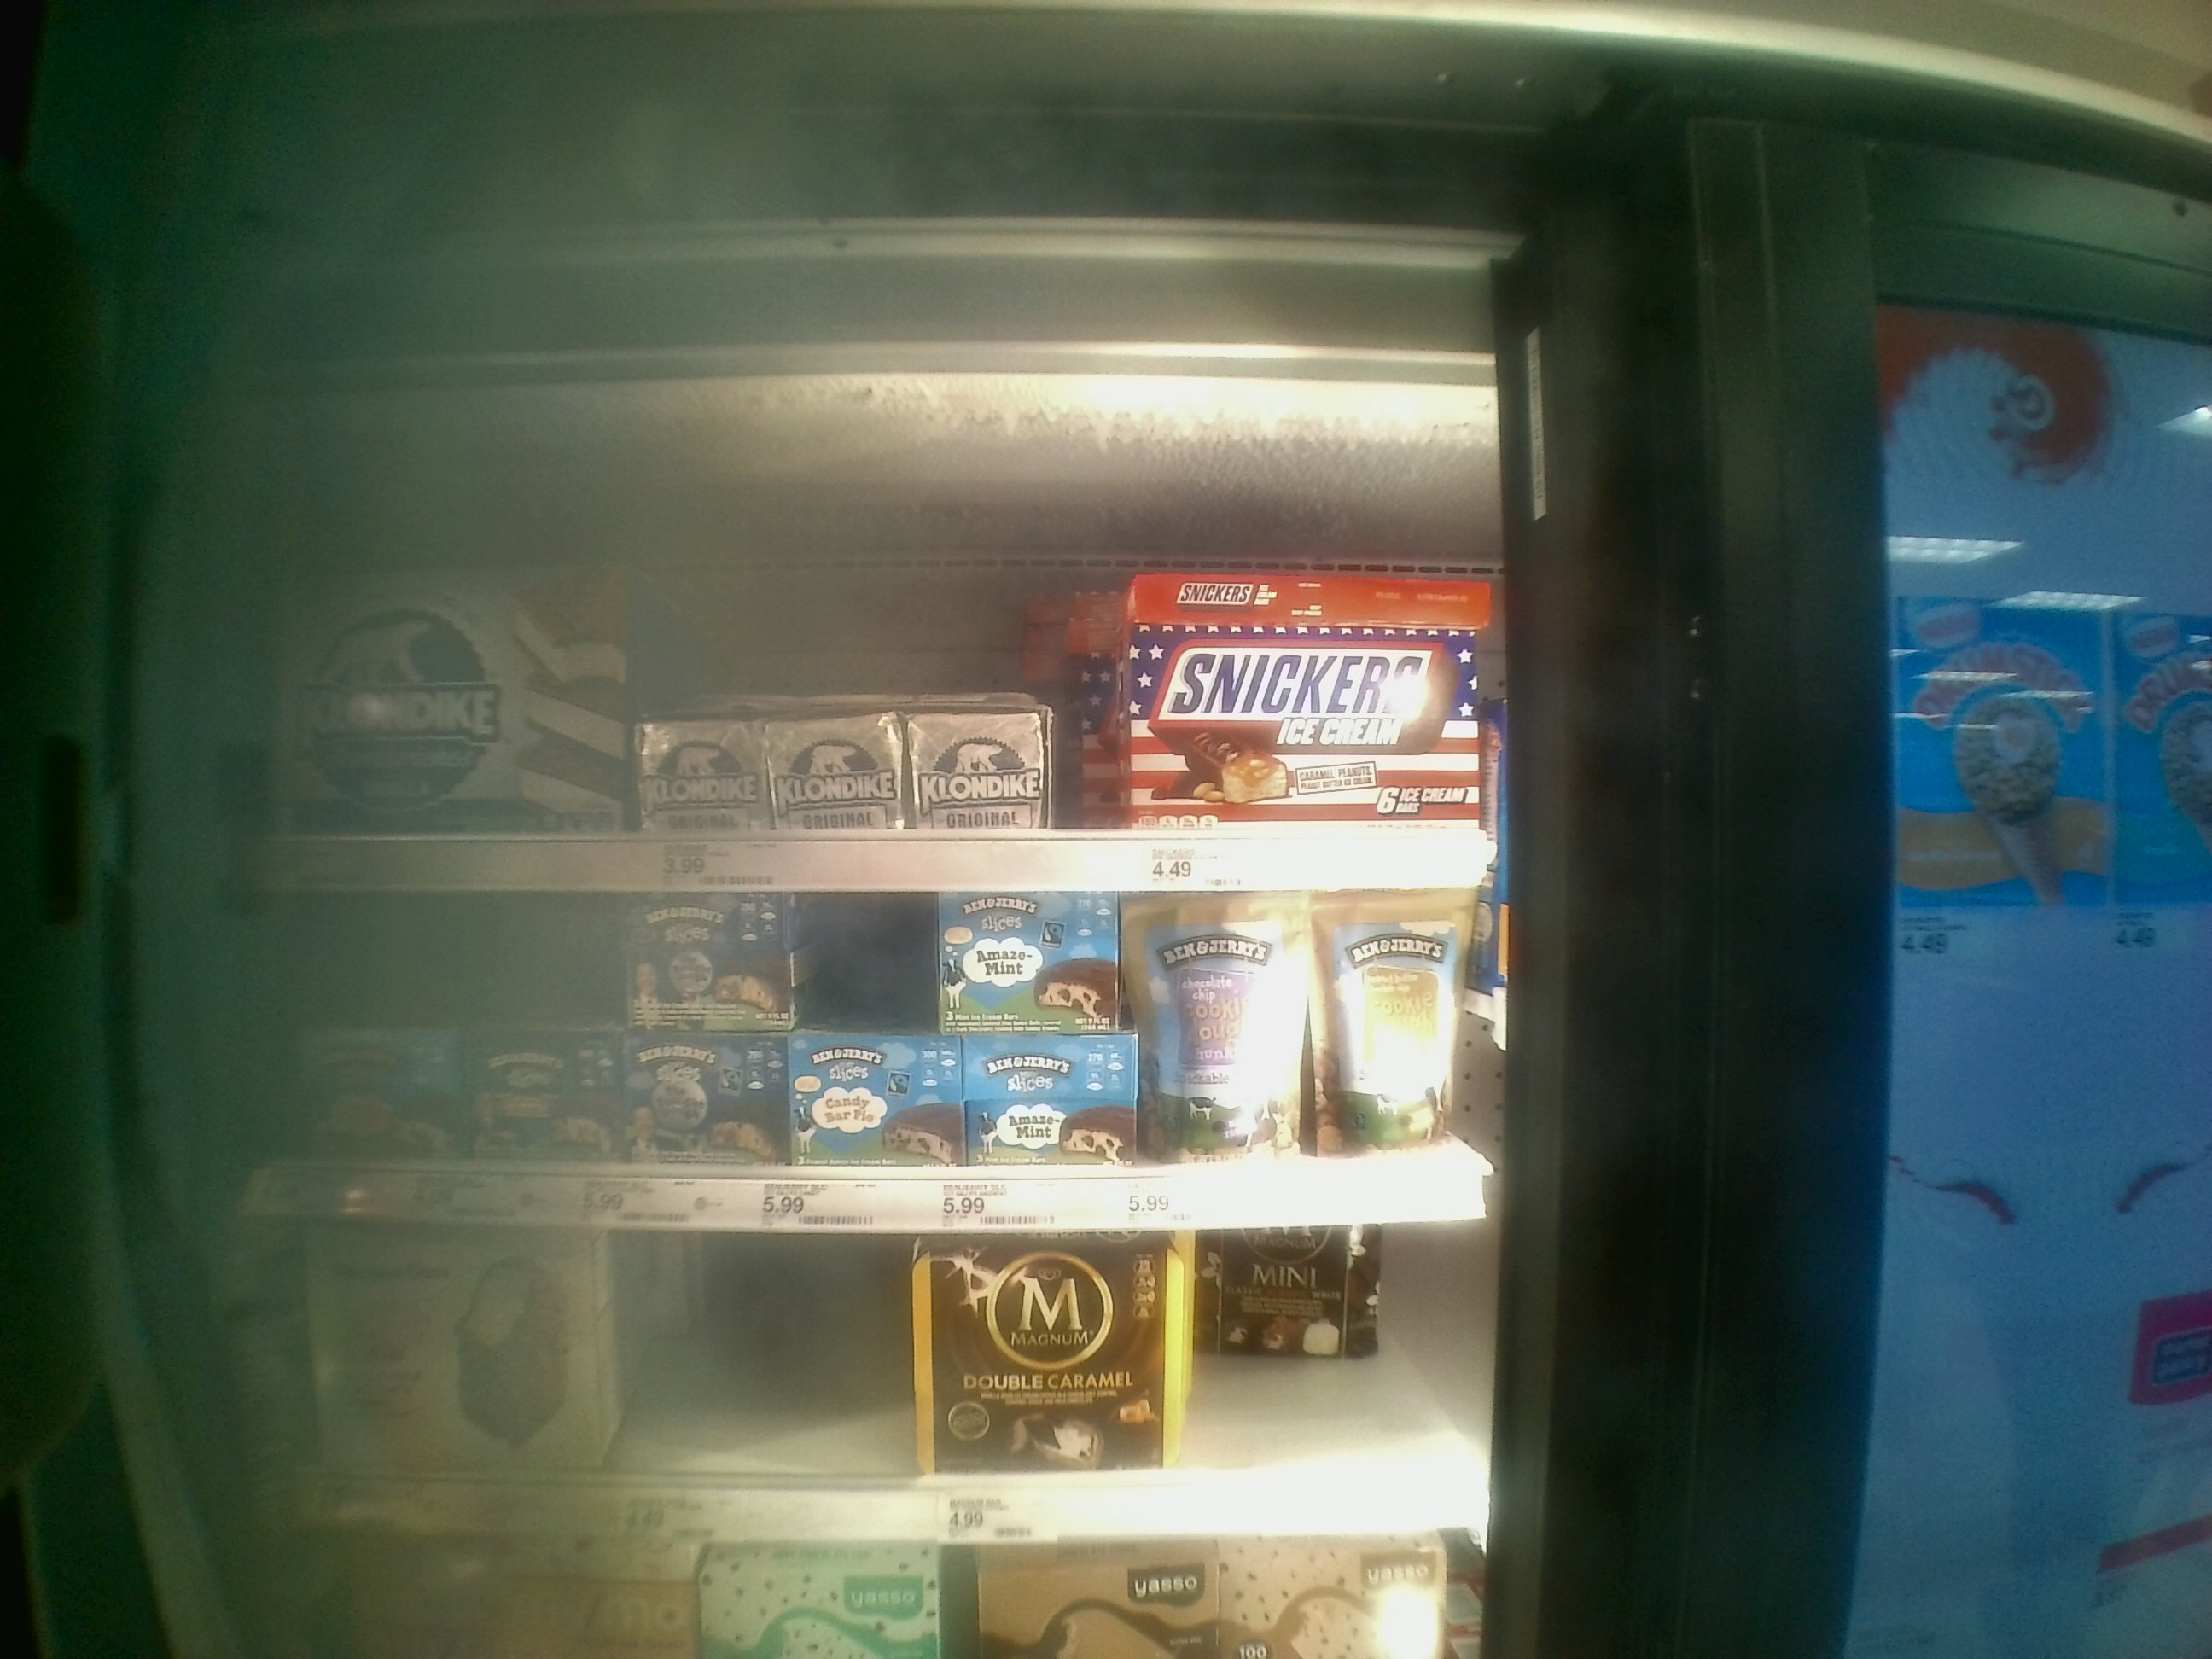ice-cream-shelf: (225, 408, 1496, 892), (216, 897, 1501, 1230), (211, 1239, 1501, 1542)
